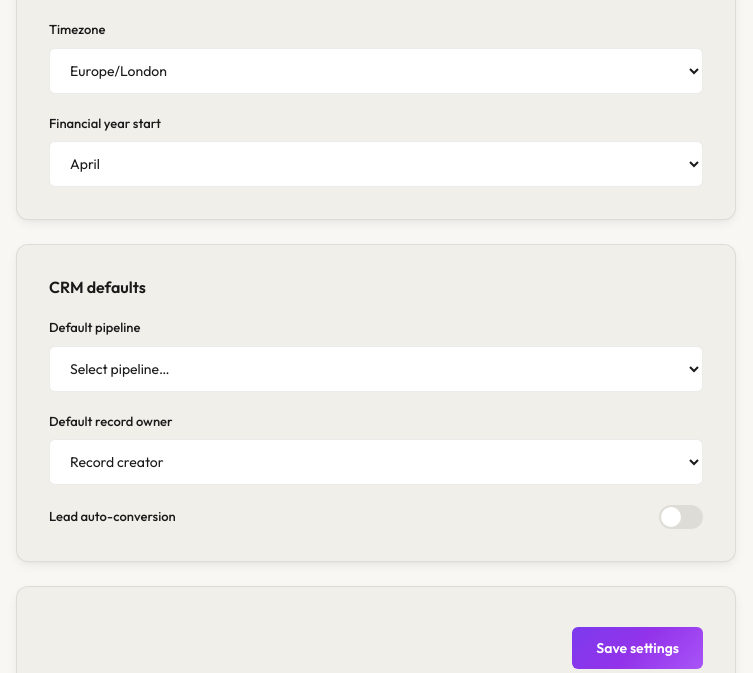
Test: AdminTenantSettingsPage › shows a network error when fetch throws during save
(page scrolled)
Click the button "Save settings" at (638, 648), box [572,627,703,669]
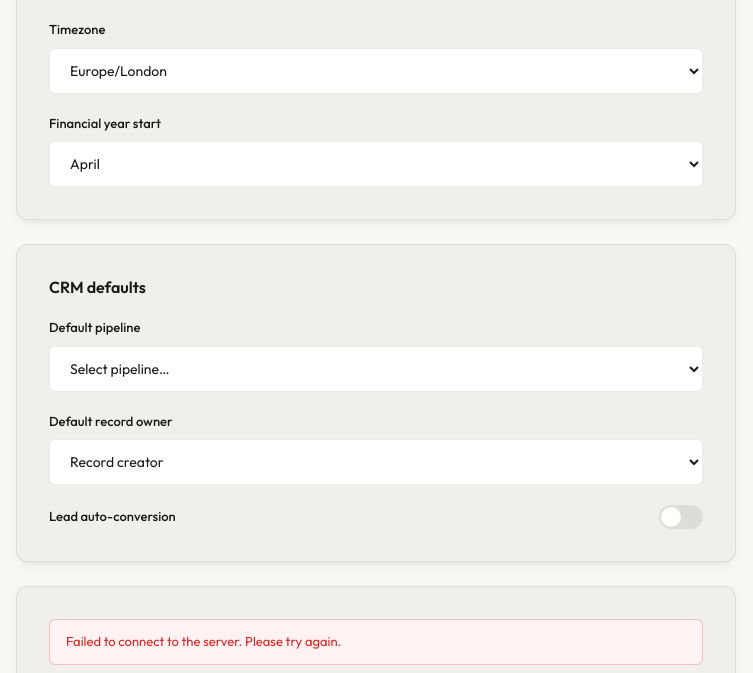
Check: the message reads "Failed to connect to the server. Please try again.", box [66,633,341,649]
